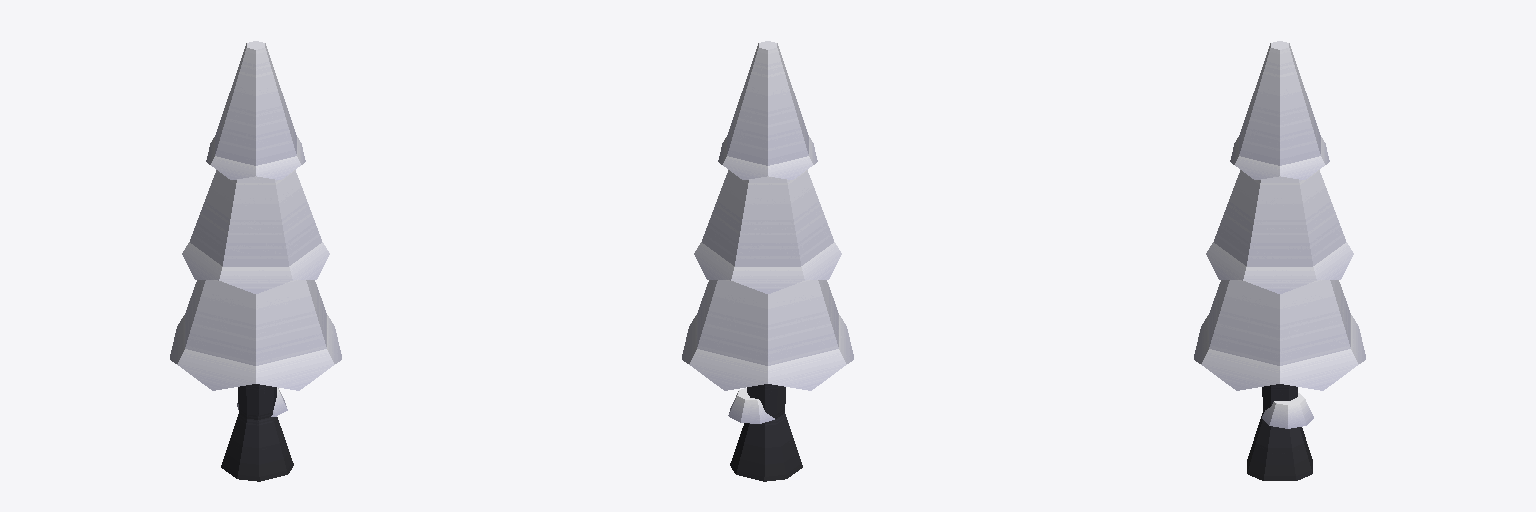
3 views of the same model, side by side, from view 1: azimuth 30°, elevation 25°; view 2: azimuth 150°, elevation 25°; view 3: azimuth 270°, elevation 25° (orthographic).
Visible parts, largest first — view 1: tree.001; view 2: tree.001; view 3: tree.001.
Part boxes in pixels (x1,y1,x2,y2): tree.001: (170, 41, 341, 481); tree.001: (682, 41, 853, 481); tree.001: (1194, 41, 1365, 480).
Size of the model in its own units: 1.36 by 3.47 by 1.3.
Materials: 1 (1 with a texture image).